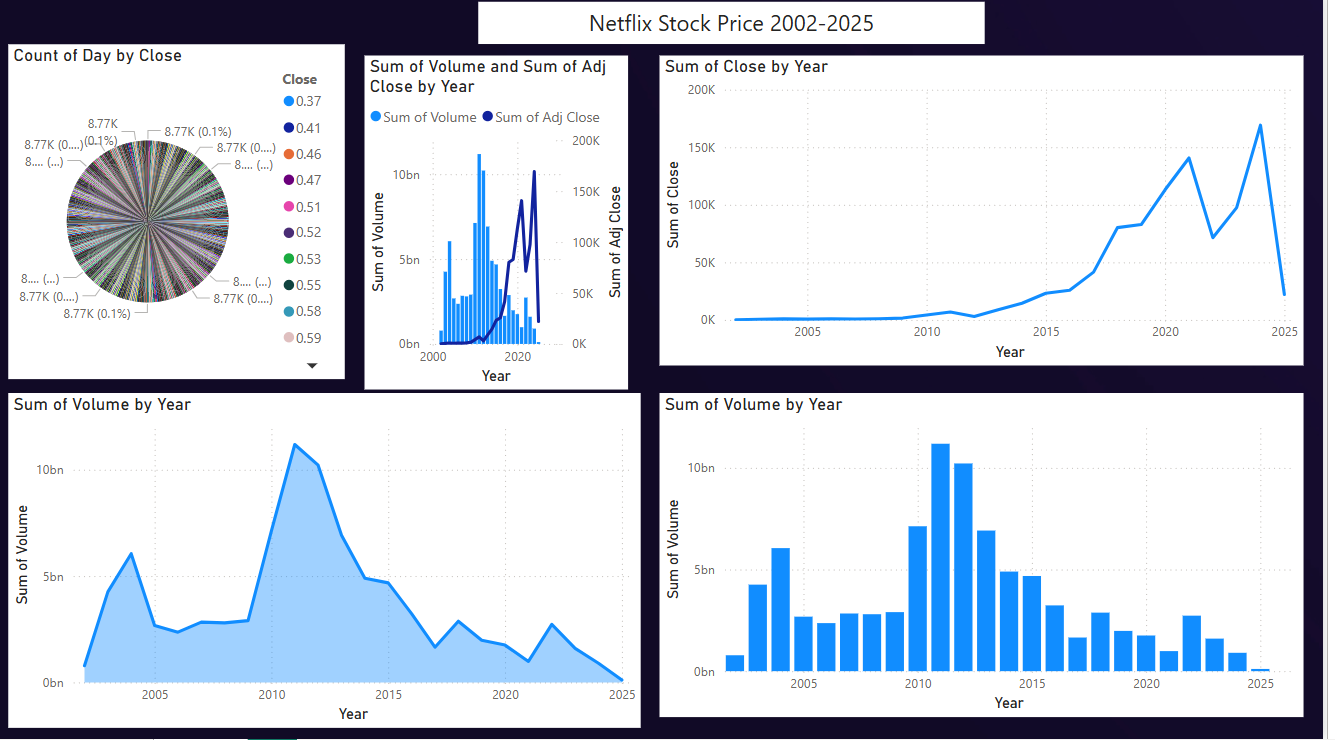

The page's visual inventory and layout, read from the dashboard file:
{"tool":"powerbi","page":{"name":"Page 1","canvas":[1280,720],"ordinal":0},"visuals":[{"type":"textbox","box":[464.5,8.4,488.6,41],"z":1},{"type":"lineChart","fields":{"Category":["Netflix_Cleaned.Date.Variation.Date Hierarchy.Year","Netflix_Cleaned.Date.Variation.Date Hierarchy.Quarter","Netflix_Cleaned.Date.Variation.Date Hierarchy.Month","Netflix_Cleaned.Date.Variation.Date Hierarchy.Day"],"Y":["Sum(Netflix_Cleaned.Close)"]},"box":[639.4,60.3,621.3,299.2],"z":2},{"type":"areaChart","fields":{"Category":["Netflix_Cleaned.Date.Variation.Date Hierarchy.Year","Netflix_Cleaned.Date.Variation.Date Hierarchy.Quarter","Netflix_Cleaned.Date.Variation.Date Hierarchy.Month","Netflix_Cleaned.Date.Variation.Date Hierarchy.Day"],"Y":["Sum(Netflix_Cleaned.Volume)"]},"box":[10.9,386.1,610.5,323.3],"z":3},{"type":"pieChart","fields":{"Category":["Netflix_Cleaned.Close"],"Y":["CountNonNull(Netflix_Cleaned.Date.Variation.Date Hierarchy.Day)"]},"box":[10.9,49.5,324.5,323.3],"z":4},{"type":"columnChart","fields":{"Category":["Netflix_Cleaned.Date.Variation.Date Hierarchy.Year","Netflix_Cleaned.Date.Variation.Date Hierarchy.Quarter","Netflix_Cleaned.Date.Variation.Date Hierarchy.Month","Netflix_Cleaned.Date.Variation.Date Hierarchy.Day"],"Y":["Sum(Netflix_Cleaned.Volume)"]},"box":[639.4,386.1,621.3,312.5],"z":5},{"type":"lineStackedColumnComboChart","fields":{"Category":["Netflix_Cleaned.Date.Variation.Date Hierarchy.Year"],"Y":["Sum(Netflix_Cleaned.Volume)"],"Y2":["Sum(Netflix_Cleaned.Adj Close)"]},"box":[354.7,60.3,254.6,322.1],"z":6}]}

Visuals, with their boxes in screenshot pixels (x1, y1, x2, y2), scaled from the page's 1280x720 canvas onto the 1335x740 screenshot:
textbox: box=[484, 9, 994, 51]
lineChart - Netflix_Cleaned.Date.Variation.Date Hierarchy.Year x Netflix_Cleaned.Date.Variation.Date Hierarchy.Quarter: box=[667, 62, 1315, 369]
areaChart - Netflix_Cleaned.Date.Variation.Date Hierarchy.Year x Netflix_Cleaned.Date.Variation.Date Hierarchy.Quarter: box=[11, 397, 648, 729]
pieChart - Netflix_Cleaned.Close x CountNonNull(Netflix_Cleaned.Date.Variation.Date Hierarchy.Day): box=[11, 51, 350, 383]
columnChart - Netflix_Cleaned.Date.Variation.Date Hierarchy.Year x Netflix_Cleaned.Date.Variation.Date Hierarchy.Quarter: box=[667, 397, 1315, 718]
lineStackedColumnComboChart - Netflix_Cleaned.Date.Variation.Date Hierarchy.Year x Sum(Netflix_Cleaned.Volume): box=[370, 62, 635, 393]
